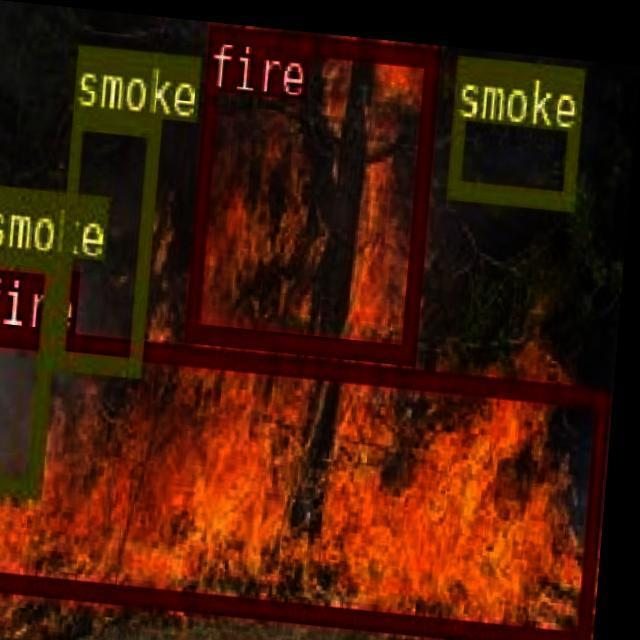Fire: (0, 313, 617, 640), (197, 18, 453, 372)
Smoke: (0, 2, 218, 471), (461, 39, 590, 315)
